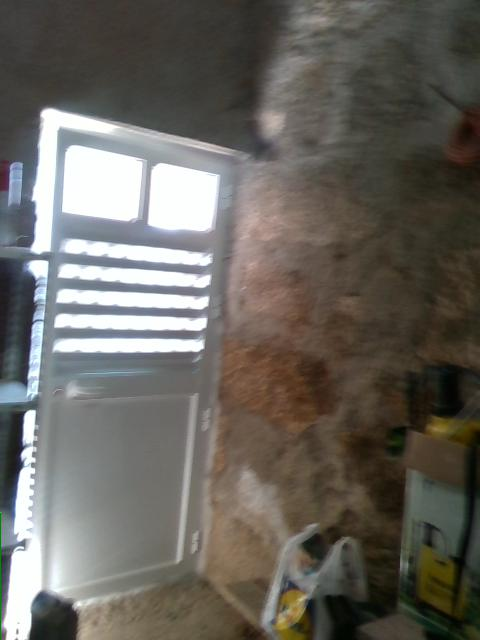door: (35, 125, 236, 607)
